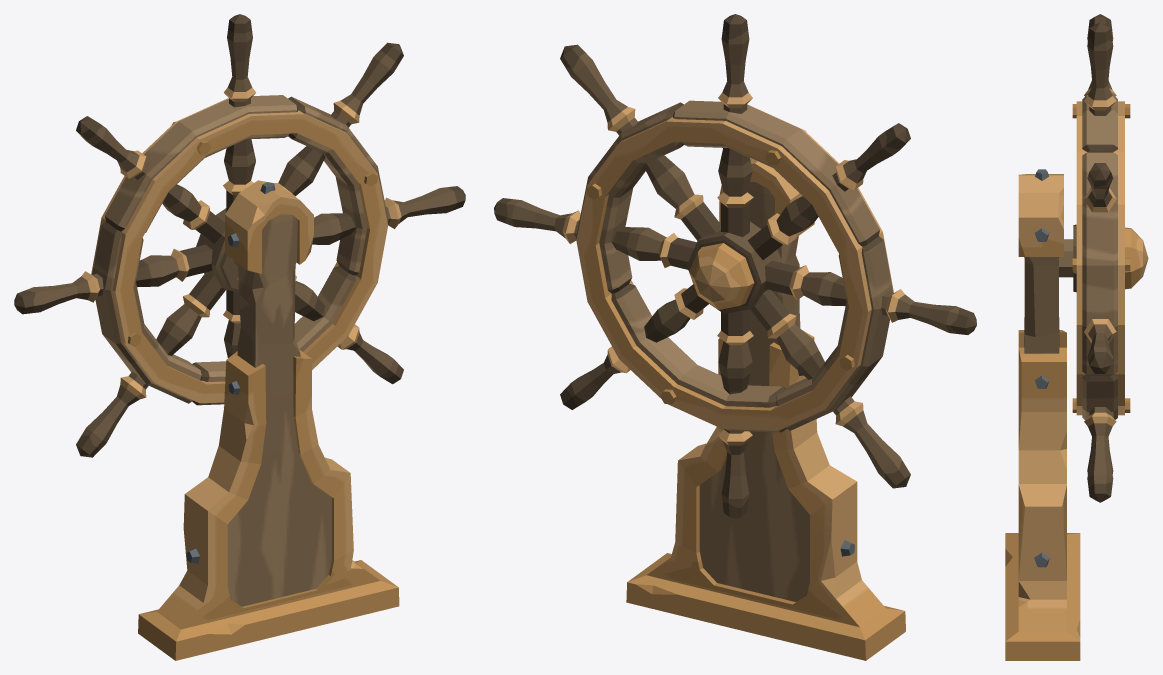
File: SM_Veh_Helm_02.fbx
The picture shows the model from 3 angles, left to right: view 1: azimuth 30°, elevation 25°; view 2: azimuth 150°, elevation 25°; view 3: azimuth 270°, elevation 25°; orthographic projection. The views are drawn at different scales.
Visible parts, largest first — view 1: SM_Veh_Helm_02; view 2: SM_Veh_Helm_02; view 3: SM_Veh_Helm_02.
Part boxes in pixels (x1,y1,x2,y2): SM_Veh_Helm_02: [14, 14, 465, 660]; SM_Veh_Helm_02: [494, 14, 976, 660]; SM_Veh_Helm_02: [1005, 14, 1148, 660].
Size of the model in its own units: 134 by 166 by 36.79.
